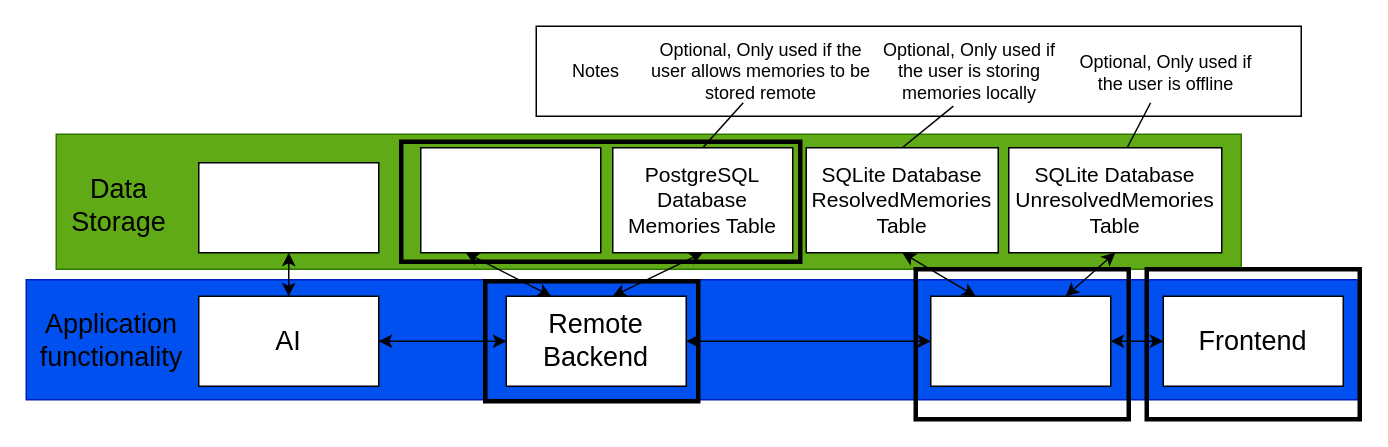
The diagram is 1388 pixels wide and 447 high, and some of its shapes have lost their labels. Here are the shapes that lost their labels. From the top down, the centre of each, then its label:
pixel 288 207: Knowledge Graph
pixel 510 199: PostgreSQL Database Users Table
pixel 1020 340: Local Backend
